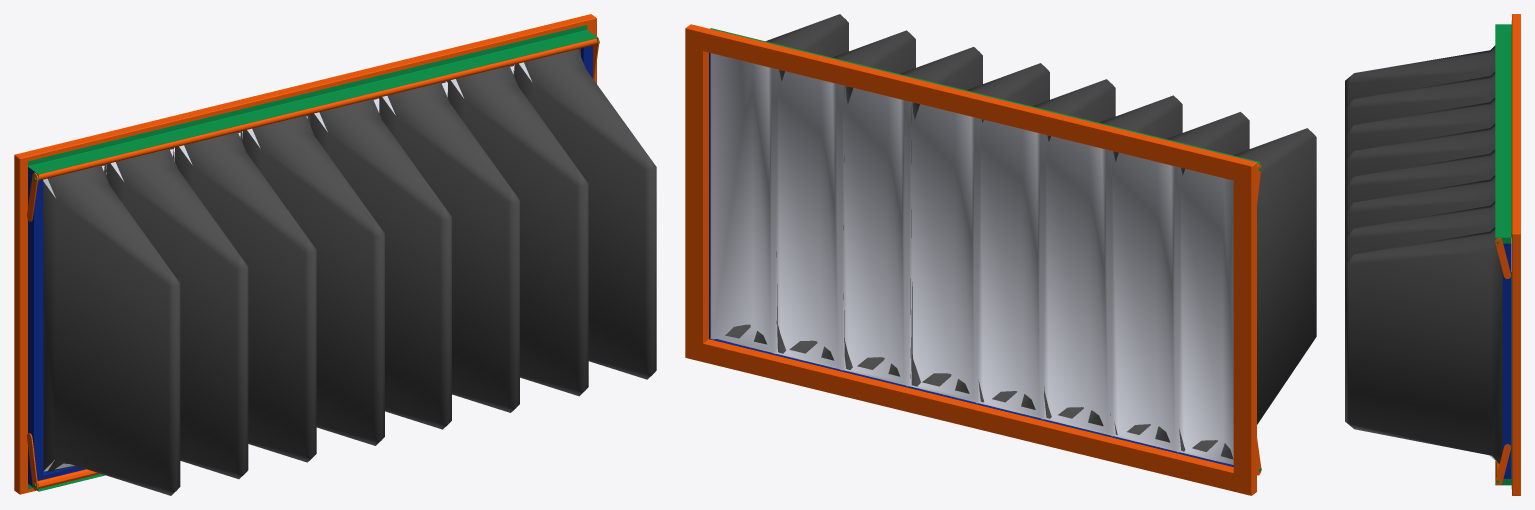
File: filtrKasetni.FBX
The picture shows the model from 3 angles, left to right: view 1: azimuth 30°, elevation 25°; view 2: azimuth 150°, elevation 25°; view 3: azimuth 270°, elevation 25°; orthographic projection. The views are drawn at different scales.
Visible parts, largest first — view 1: filtrKasetni; view 2: filtrKasetni; view 3: filtrKasetni.
Boxes of the visible parts, <box> form: filtrKasetni: <box>14,14,656,495</box>; filtrKasetni: <box>685,14,1316,495</box>; filtrKasetni: <box>1345,14,1520,495</box>.
Size of the model in its own units: 899 by 500 by 304.
